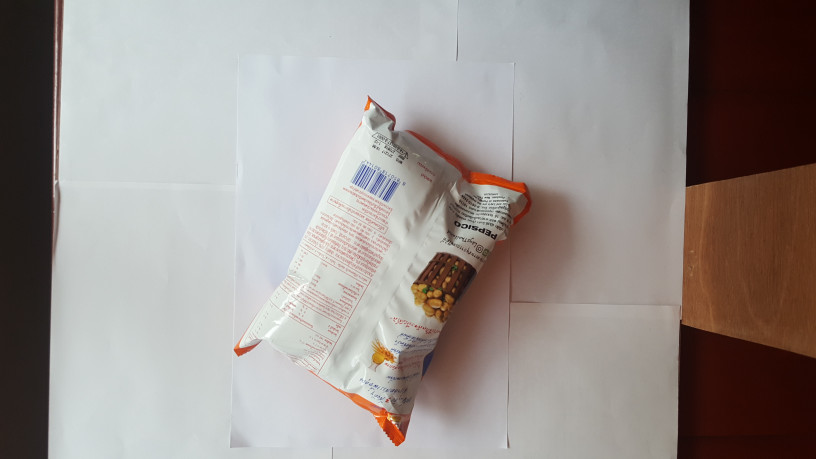lays-bbq: (220, 103, 540, 439)
